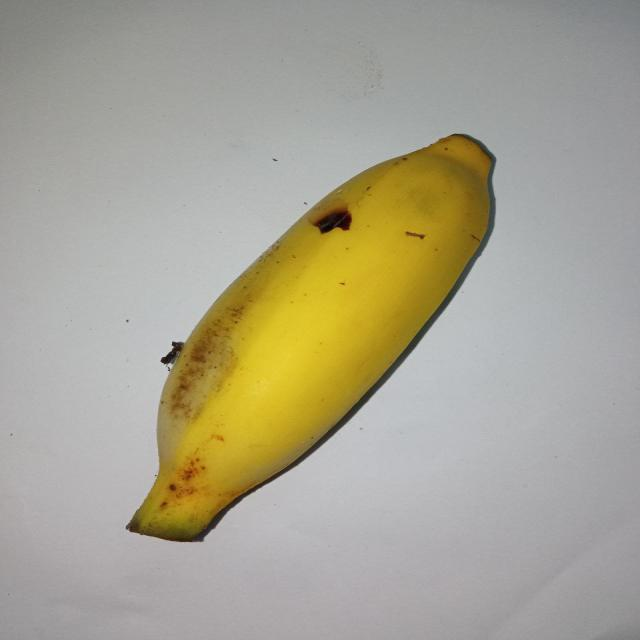fresh_banana: (127, 135, 489, 541)
